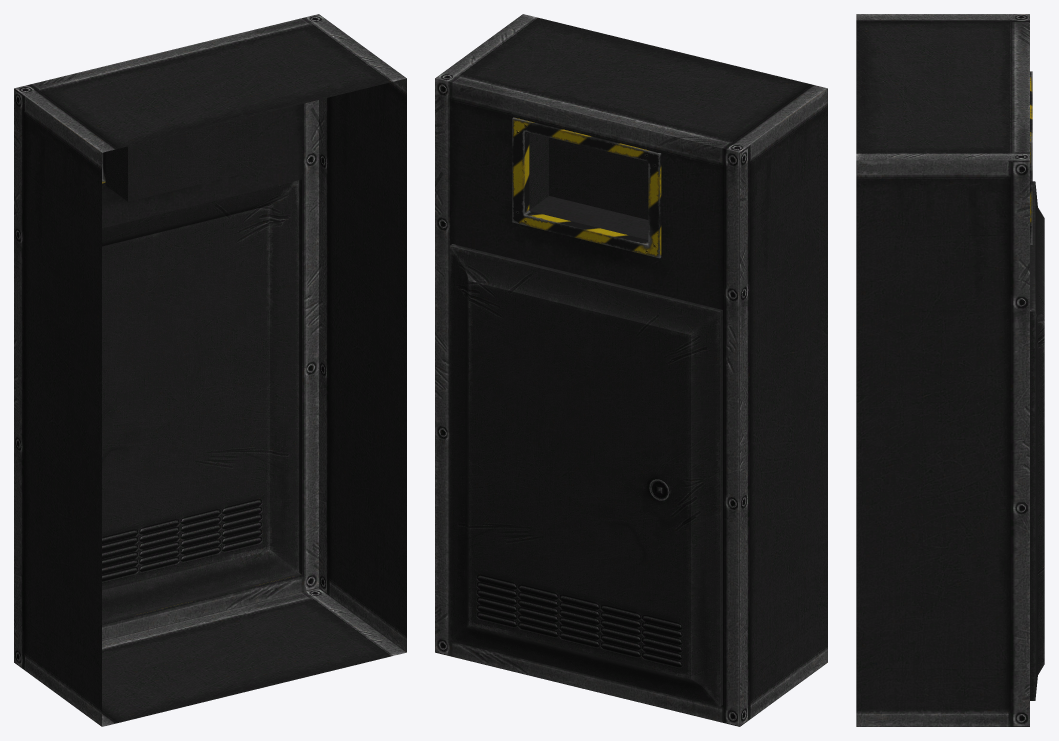
File: fuse_box_house.DAE
3 renders of one model, left to right at view 1: azimuth 30°, elevation 25°; view 2: azimuth 150°, elevation 25°; view 3: azimuth 270°, elevation 25°, orthographic.
Visible parts, largest first — view 1: cabin; view 2: cabin; view 3: cabin.
Boxes of the visible parts, bbox=[...] form: cabin: bbox=[14, 14, 406, 726]; cabin: bbox=[435, 14, 827, 726]; cabin: bbox=[856, 14, 1044, 726].
Size of the model in its own units: 1.25 by 0.6783 by 2.25.
